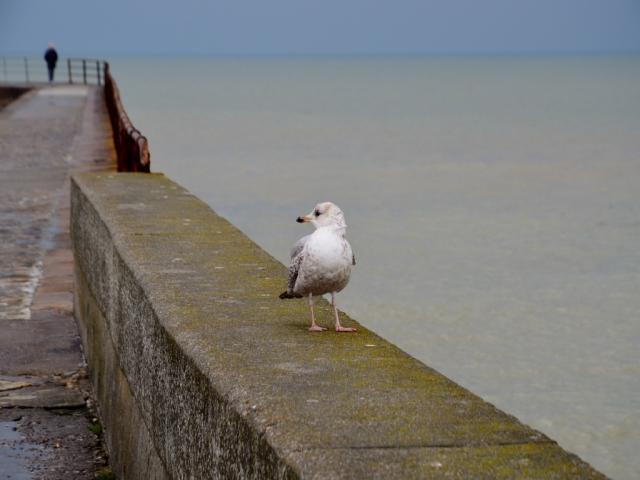Bird: (279, 201, 359, 330)
